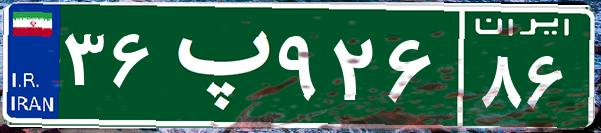2: (330, 28, 385, 110)
3: (57, 26, 110, 107)
6: (385, 28, 445, 110), (110, 28, 158, 105), (525, 38, 570, 115)
8: (475, 38, 525, 113)
9: (273, 28, 330, 110)
پ: (158, 15, 273, 115)
